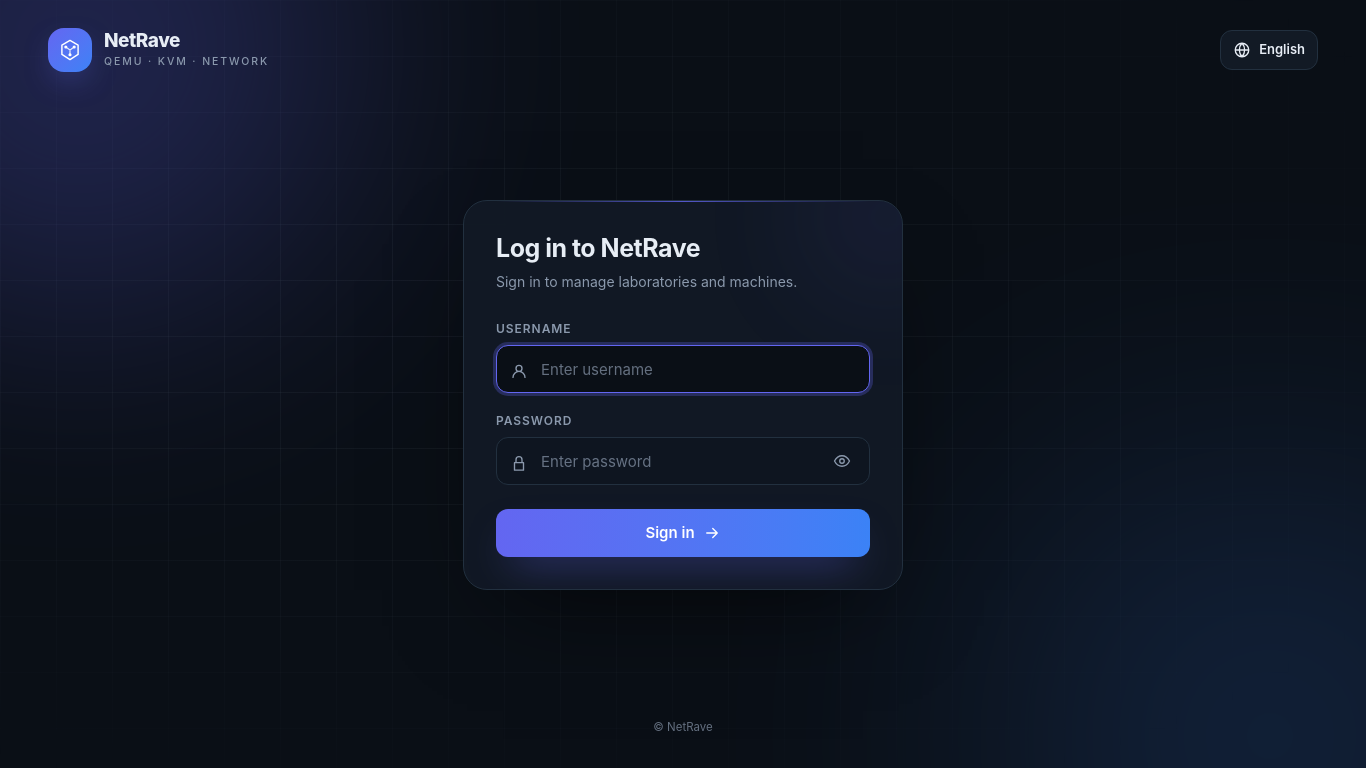
Test: LoginPage › validates fields before sending credentials
Click the button "Sign in": (683, 533) left=496, top=509, right=870, bottom=557
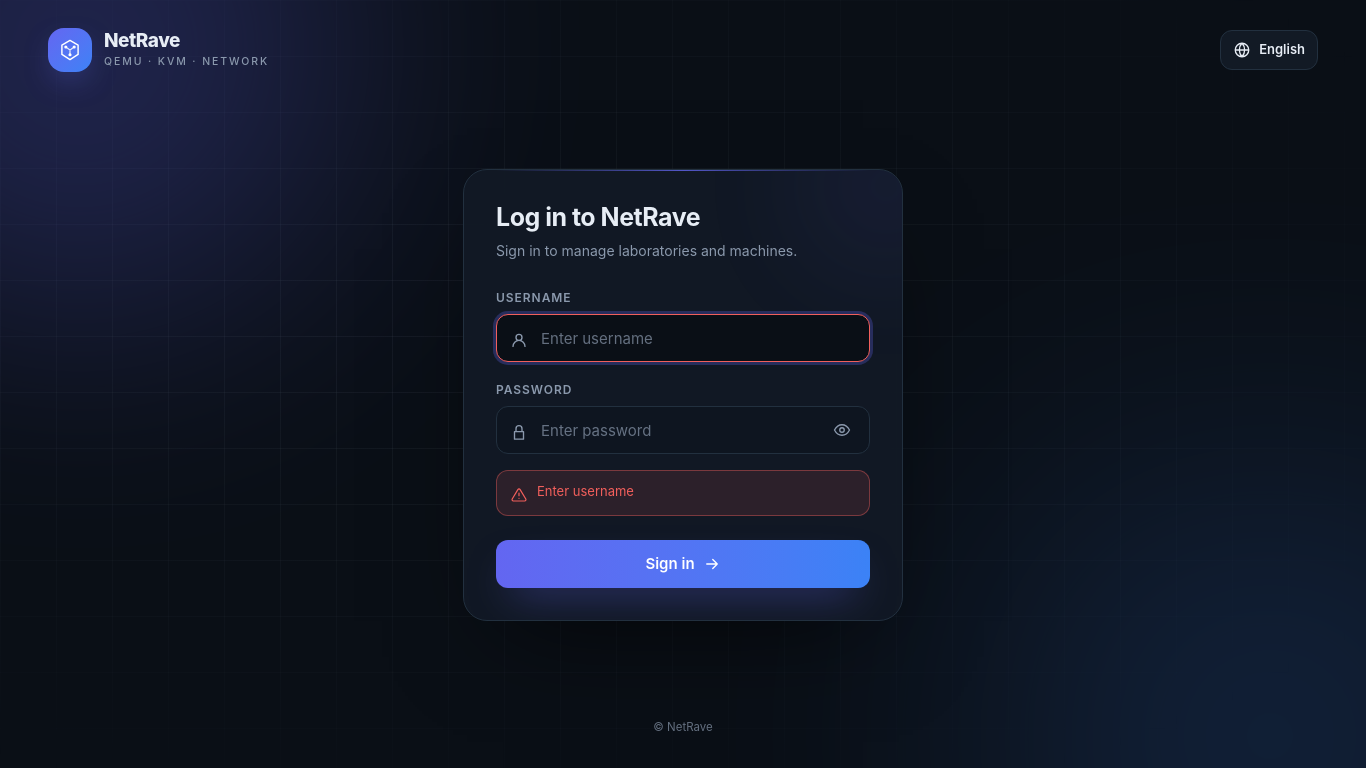
Expected: the message reads "Enter username", left=537, top=483, right=634, bottom=499
In the field labelled "Username": (683, 338) left=496, top=314, right=870, bottom=362, type "admin"
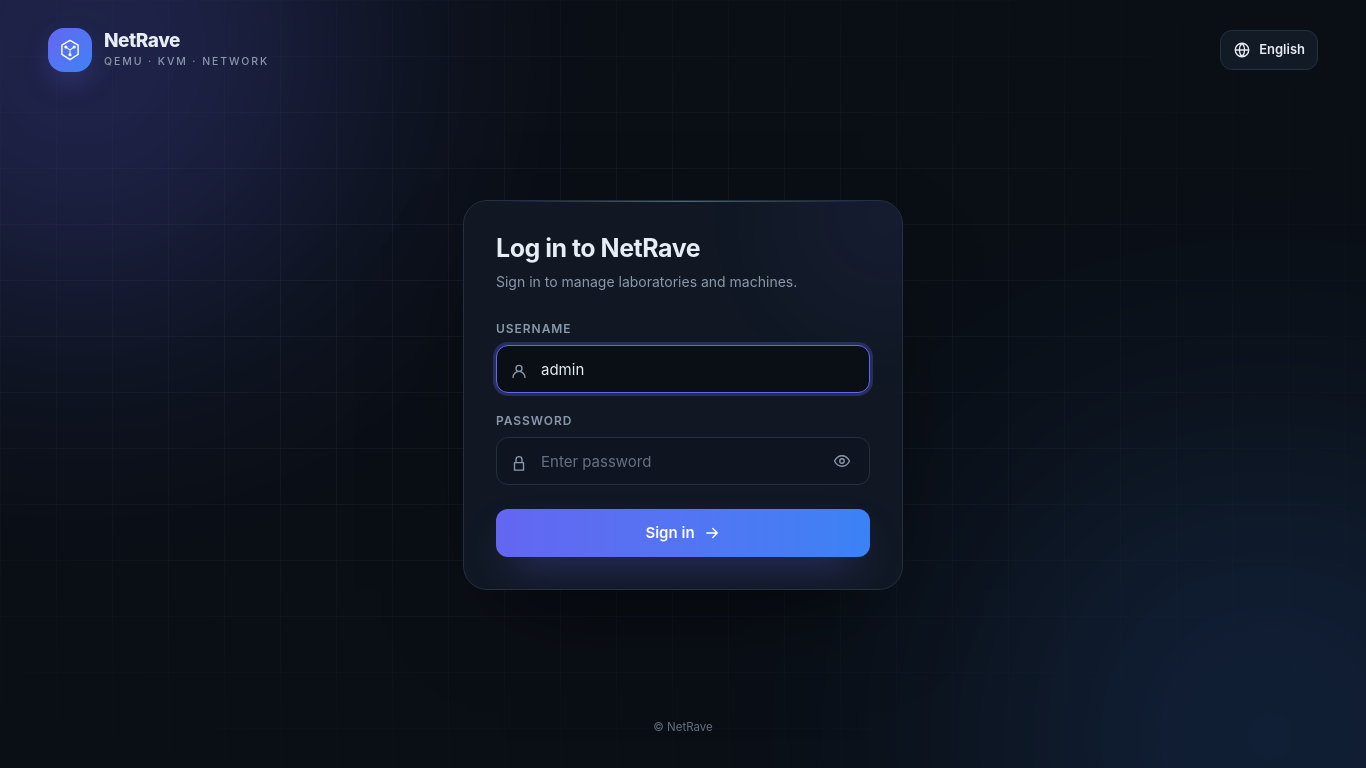
Click the button "Sign in": (683, 533) left=496, top=509, right=870, bottom=557
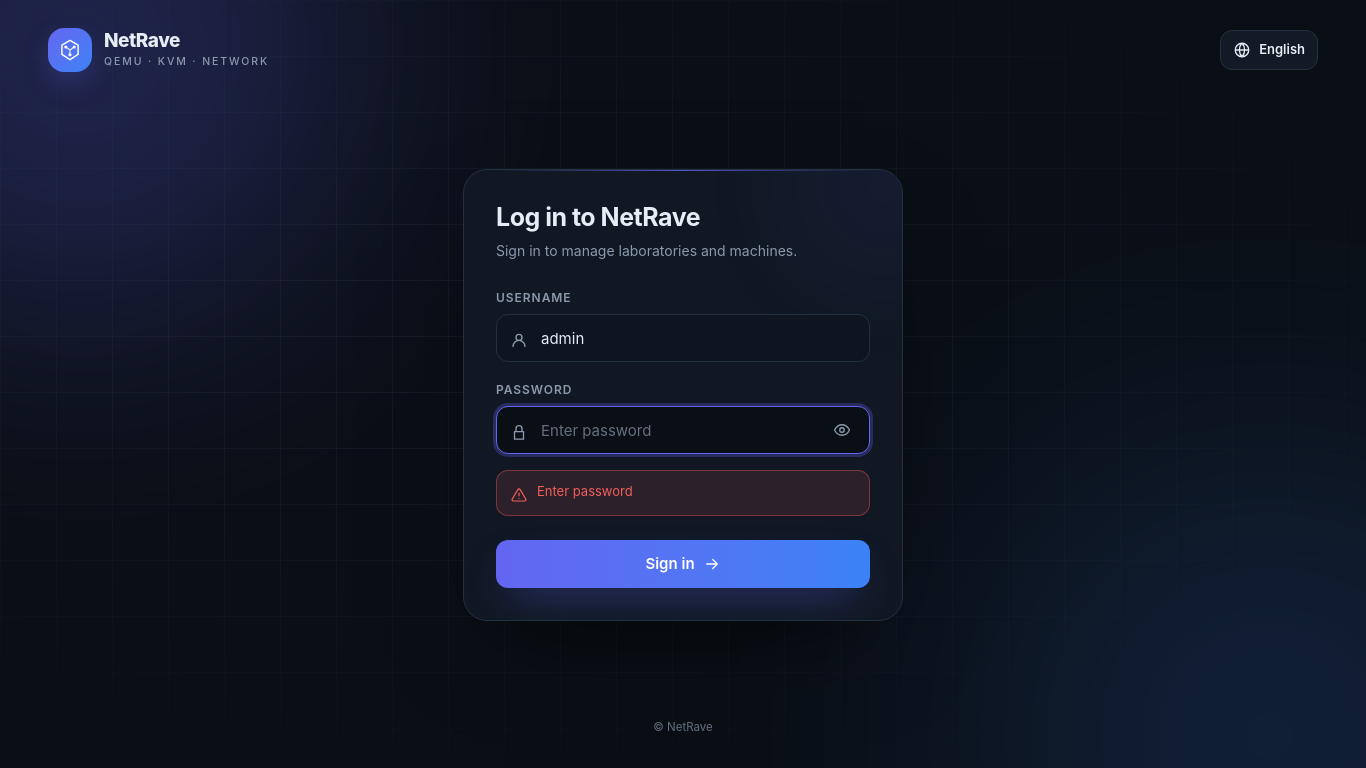
Expected: the message reads "Enter password", left=537, top=483, right=633, bottom=499
